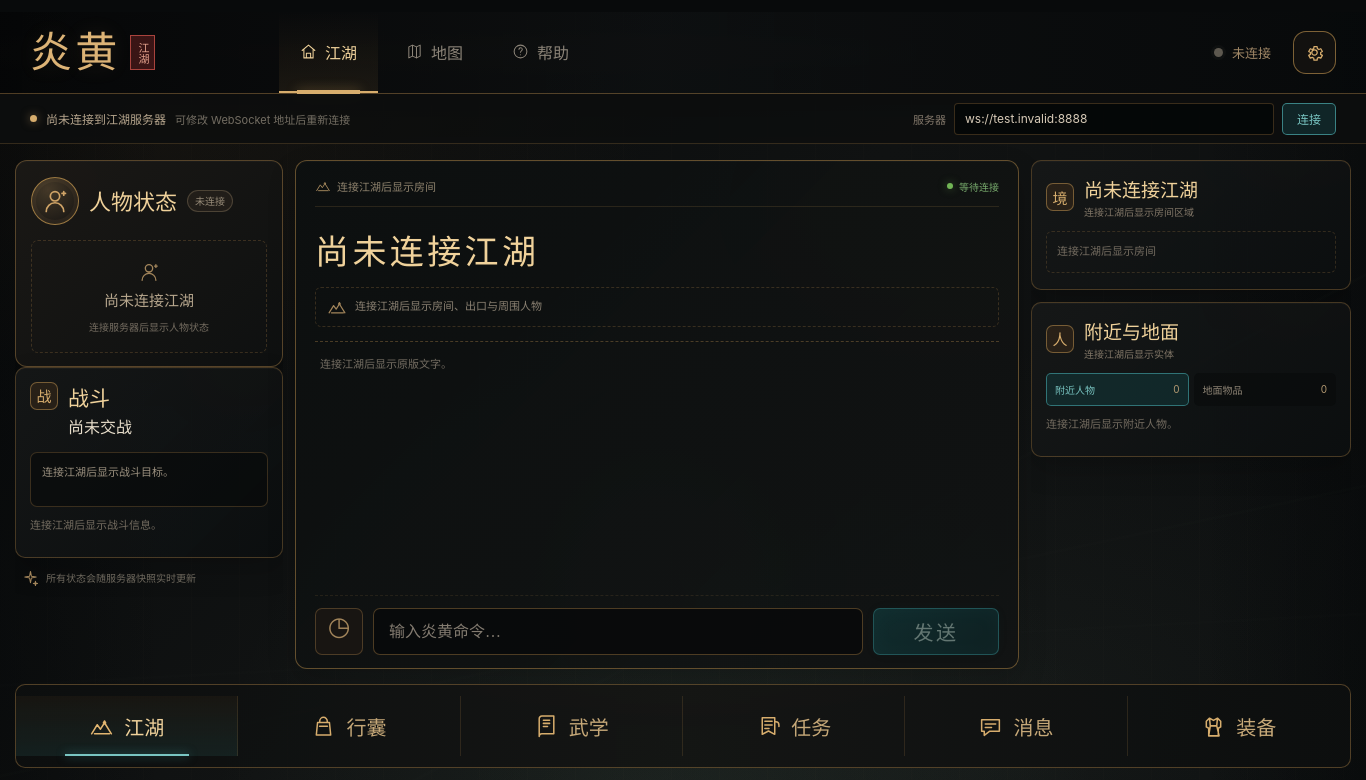
it: App › keeps an invalid settings endpoint from being submitted
Click the button named "打开应用设置": (1314, 52) [1293,31,1336,74]
(page scrolled)
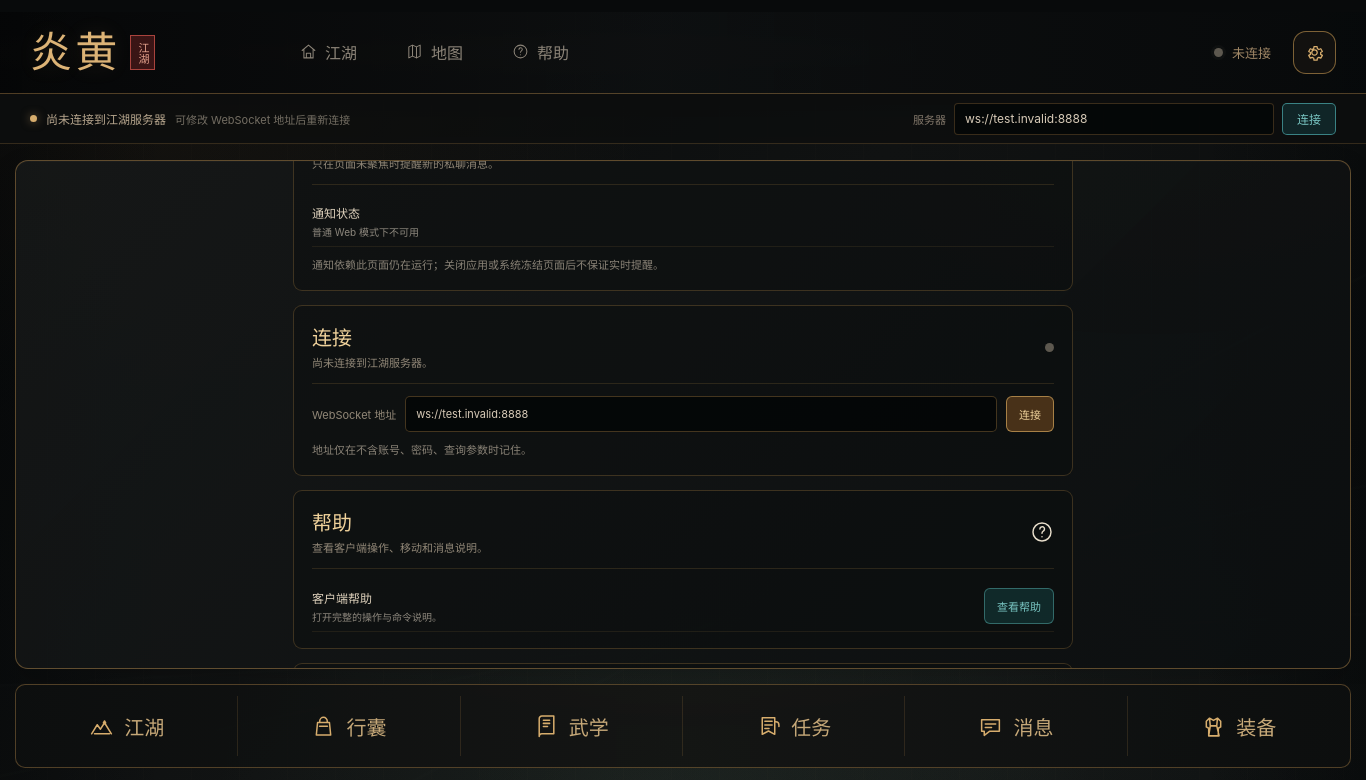
Replace the text in the field labelled "WebSocket 地址" with "not-a-websocket-url": (701, 414) [405,396,997,432]
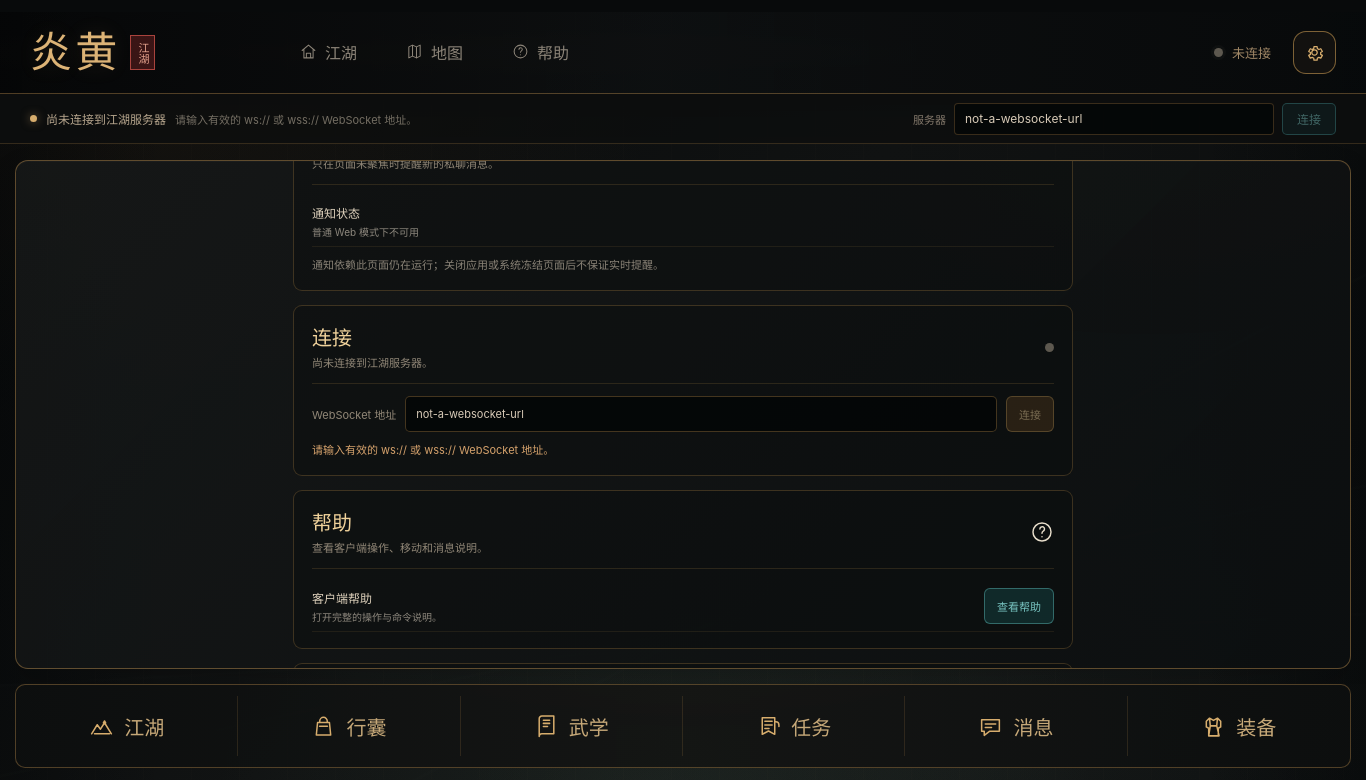
Now the 2nd button "连接" is disabled, box [1006,396,1054,432]
